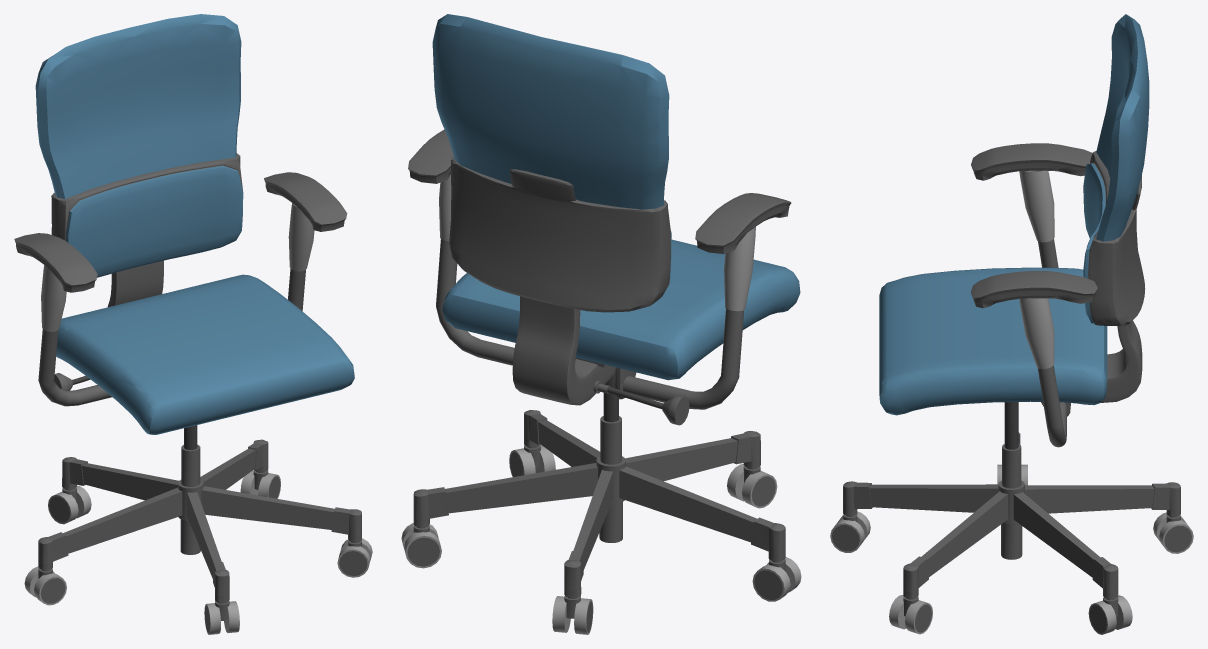
Rendered from sh_scopia_office_chair.glb.
3 views of the same model, side by side, from view 1: azimuth 30°, elevation 25°; view 2: azimuth 150°, elevation 25°; view 3: azimuth 270°, elevation 25° (orthographic). The views are drawn at different scales.
Size of the model in its own units: 0.635 by 1 by 0.637.
